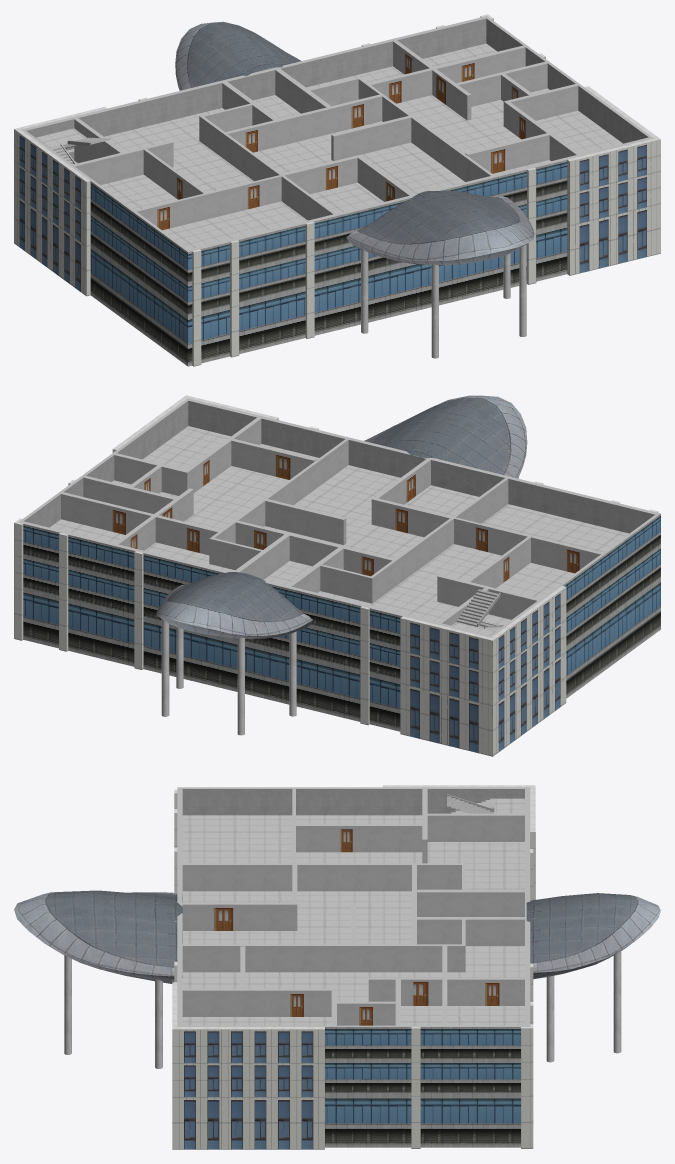
The model's file is bottom copy.glb.
The picture shows the model from 3 angles, top to bottom: view 1: azimuth 30°, elevation 25°; view 2: azimuth 150°, elevation 25°; view 3: azimuth 270°, elevation 25°; orthographic projection. The views are drawn at different scales.
Parts seen in each view (by area): view 1: lou; view 2: lou; view 3: lou.
Boxes of the visible parts, x1,y1,x2,y2 form: lou: [14, 14, 660, 366]; lou: [14, 395, 660, 756]; lou: [14, 785, 660, 1149].
Bounding box in the file's own units: 56.65 × 14.42 × 63.47.
Materials: 14 (12 with a texture image).
